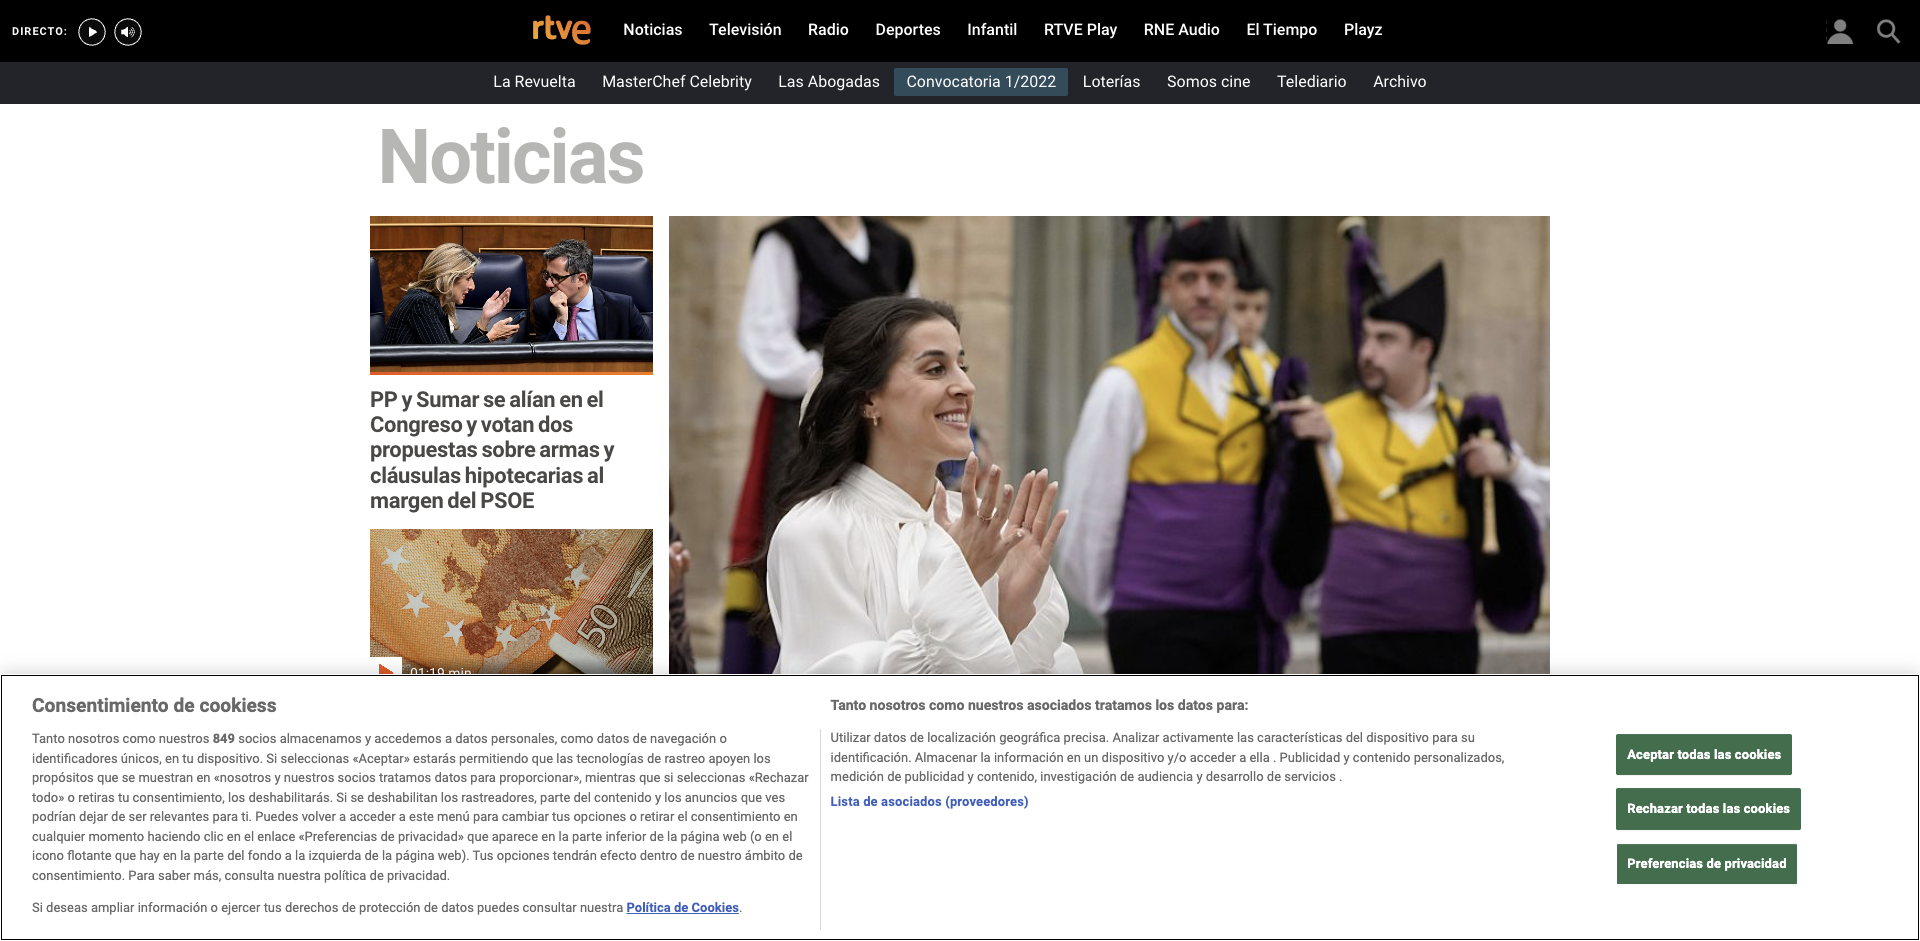button: (0, 674, 1920, 941), (1587, 720, 1843, 894), (1616, 788, 1801, 830), (1616, 843, 1798, 885), (1616, 734, 1793, 776), (830, 792, 1029, 811)
link: (669, 216, 1550, 833), (370, 216, 653, 515), (370, 529, 653, 803), (669, 723, 1550, 809), (370, 387, 653, 515), (370, 701, 653, 803), (370, 856, 653, 941), (669, 856, 951, 941), (969, 856, 1251, 941), (1267, 856, 1550, 941), (378, 119, 644, 192), (590, 67, 764, 96), (894, 67, 1068, 96), (1131, 12, 1232, 48), (767, 67, 891, 96), (697, 12, 793, 48), (1032, 12, 1129, 48), (1234, 12, 1330, 48), (863, 12, 953, 48), (1155, 67, 1262, 96), (481, 67, 588, 96), (611, 12, 694, 48), (525, 13, 599, 50), (1265, 67, 1359, 96), (955, 12, 1030, 48), (1070, 67, 1152, 96), (796, 12, 861, 48), (1332, 12, 1395, 48), (1362, 67, 1439, 96), (627, 901, 738, 915), (1870, 12, 1907, 48), (111, 12, 144, 51), (1878, 899, 1914, 935), (1822, 12, 1858, 48), (76, 12, 108, 51)
